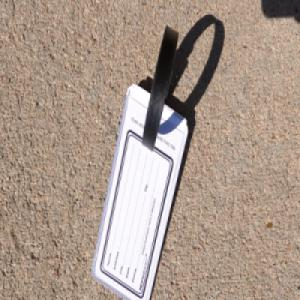LuggageTag: (90, 20, 188, 300)
